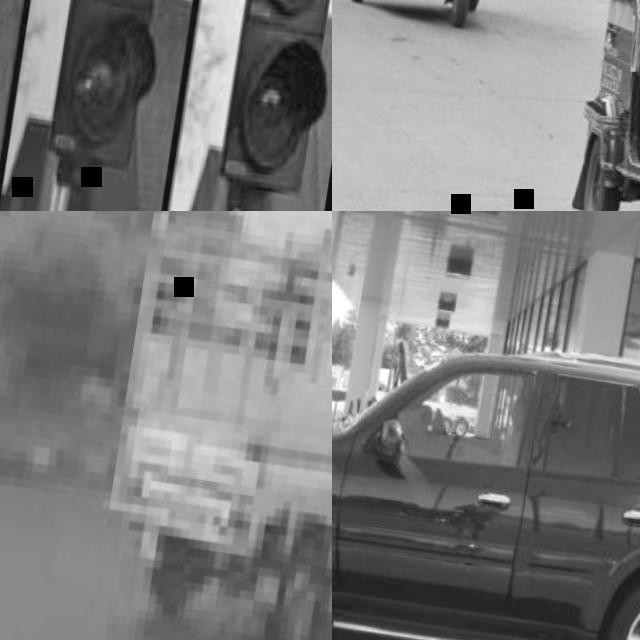car: (327, 347, 639, 638), (41, 0, 334, 207)
